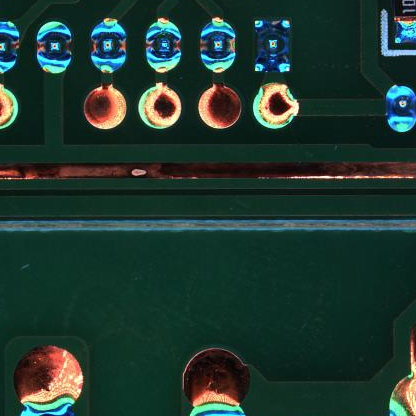spot: (143, 18, 184, 73), (199, 15, 236, 74), (35, 20, 73, 75), (254, 18, 291, 73), (91, 18, 127, 74), (384, 85, 414, 135)
